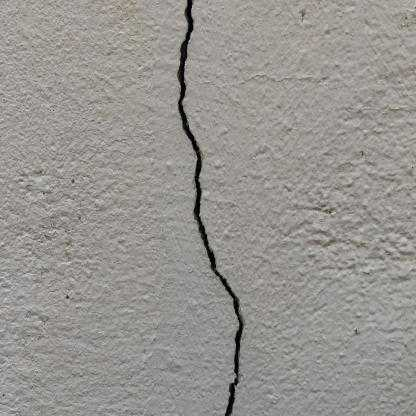crack: (176, 0, 243, 416)
